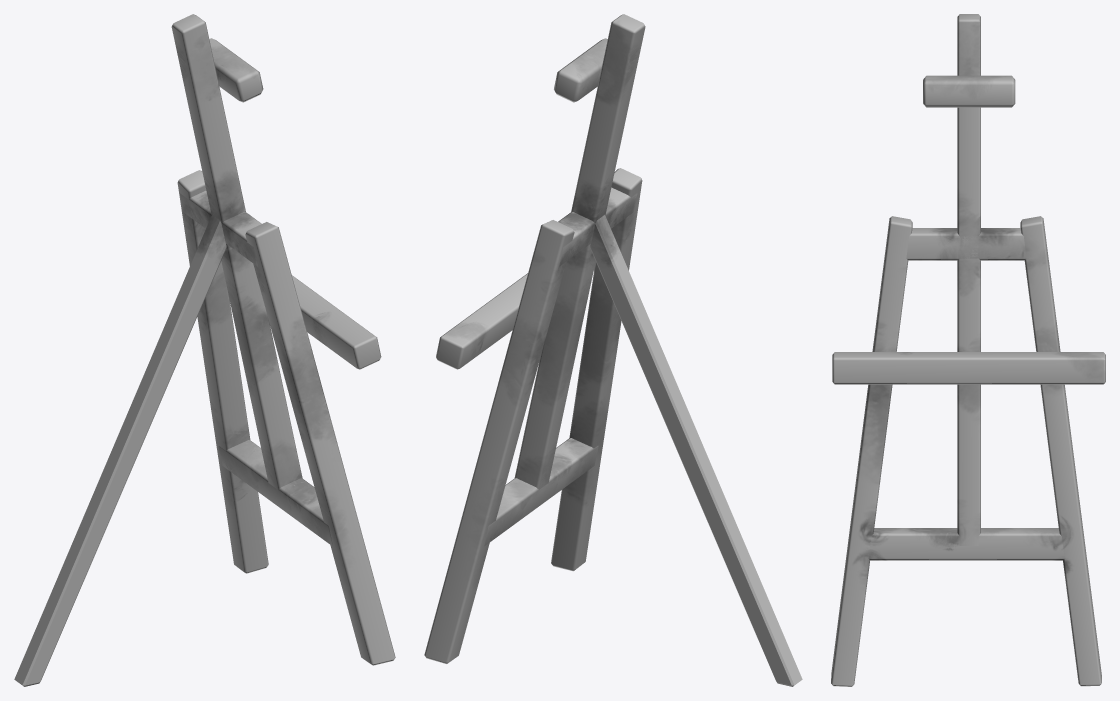
Rendered from easel.fbx.
3 renders of one model, left to right at view 1: azimuth 30°, elevation 25°; view 2: azimuth 150°, elevation 25°; view 3: azimuth 270°, elevation 25°, orthographic. The views are drawn at different scales.
Parts seen in each view (by area): view 1: easel; view 2: easel; view 3: easel.
Part boxes in pixels (<box>): easel: <box>14,14,395,686</box>; easel: <box>424,14,802,686</box>; easel: <box>831,14,1105,686</box>.
Bounding box in the file's own units: 85.61 × 166 × 67.91.
1 material, 1 textured.
